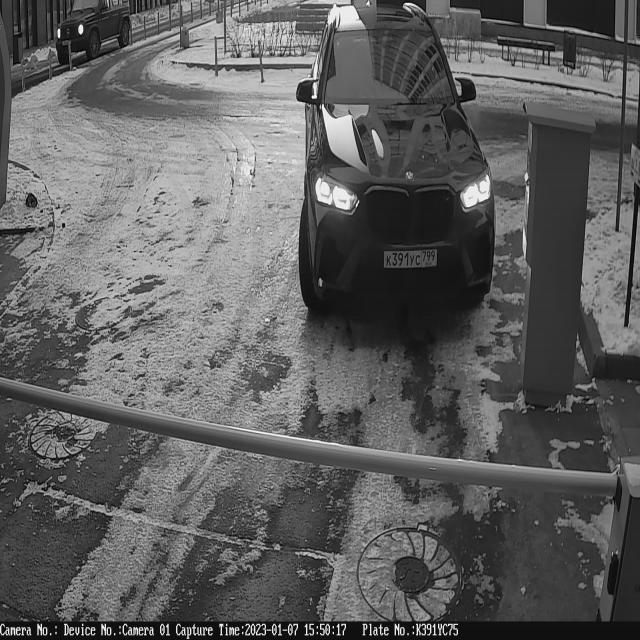car-plate-numbers: (382, 247, 442, 278)
